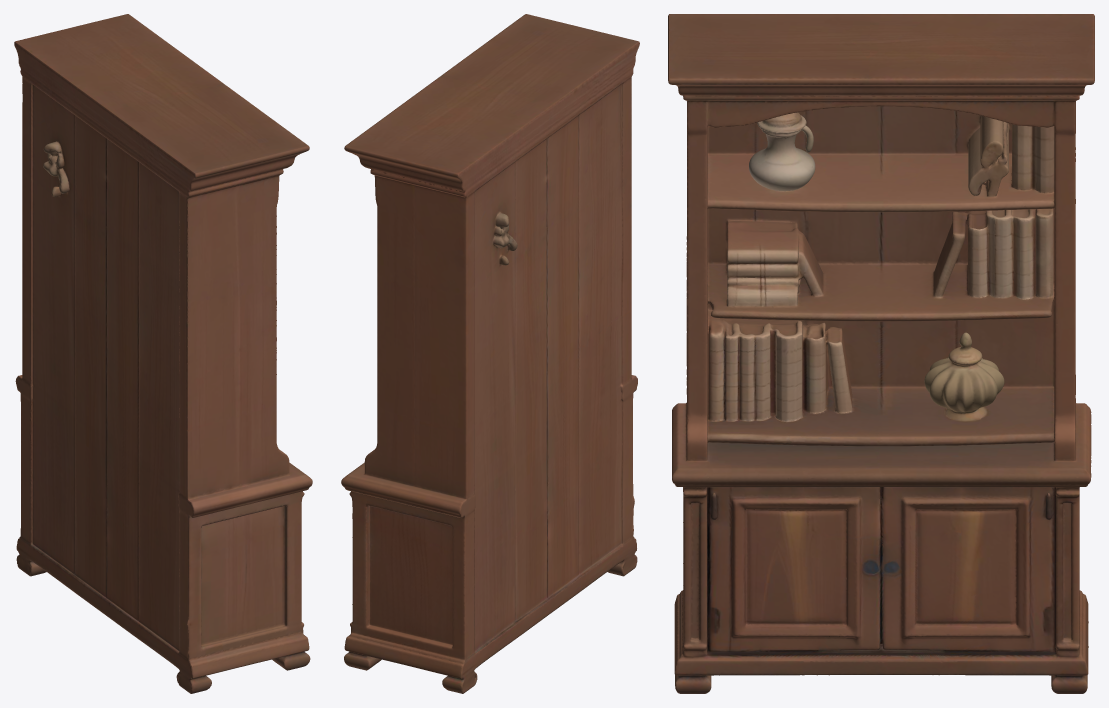
File: detailed_realistic_model_antiquebookshelf_14.glb
3 views of the same model, side by side, from view 1: azimuth 30°, elevation 25°; view 2: azimuth 150°, elevation 25°; view 3: azimuth 270°, elevation 25° (orthographic). The views are drawn at different scales.
Visible parts, largest first — view 1: tripo_node_ef7867cf-2cc8-4309-ae90-7dbc3c111d61; view 2: tripo_node_ef7867cf-2cc8-4309-ae90-7dbc3c111d61; view 3: tripo_node_ef7867cf-2cc8-4309-ae90-7dbc3c111d61.
Part boxes in pixels (box(x1,y1,x2,y2)): tripo_node_ef7867cf-2cc8-4309-ae90-7dbc3c111d61: box(14, 14, 312, 693); tripo_node_ef7867cf-2cc8-4309-ae90-7dbc3c111d61: box(341, 14, 639, 693); tripo_node_ef7867cf-2cc8-4309-ae90-7dbc3c111d61: box(668, 14, 1094, 693).
Bounding box in the file's own units: 0.2584 × 1 × 0.629.
1 material, 1 textured.
